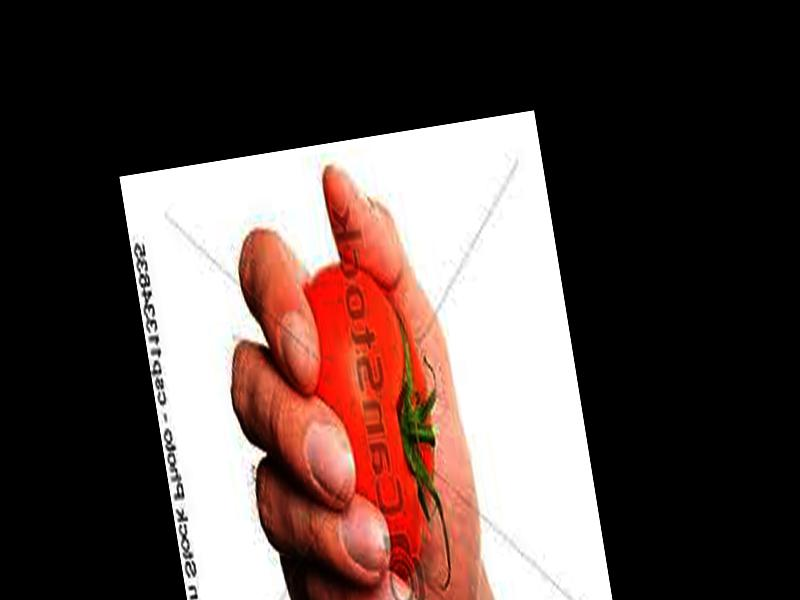Tomato: (298, 254, 453, 586)
